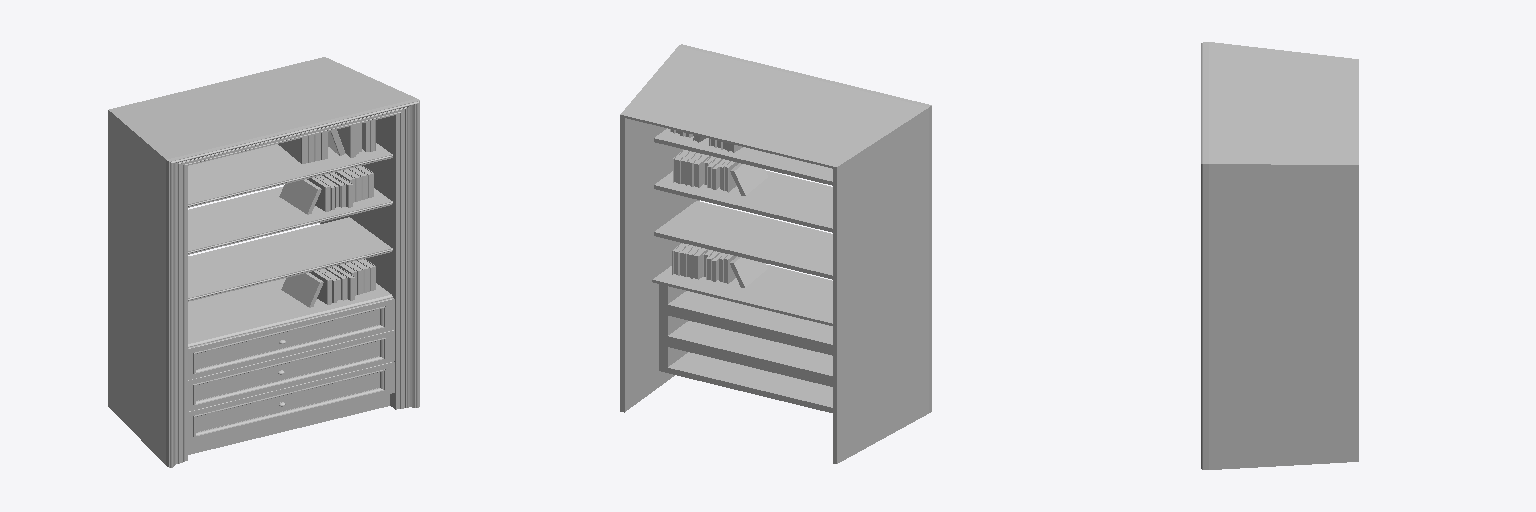
The model's file is cabinet.obj.
The picture shows the model from 3 angles: view 1: azimuth 30°, elevation 25°; view 2: azimuth 150°, elevation 25°; view 3: azimuth 270°, elevation 25°; orthographic projection.
Visible parts, largest first — view 1: Rectangle13, Line45, Rectangle09, Rectangle8, Rectangle1032, Rectangle7; view 2: Rectangle13, Line45, Rectangle8, Rectangle1032; view 3: Rectangle13.
Boxes of the visible parts, <box> form: Rectangle13: <box>108,57,419,467</box>; Line45: <box>188,143,392,347</box>; Rectangle09: <box>193,306,385,436</box>; Rectangle8: <box>279,166,373,214</box>; Rectangle1032: <box>281,259,375,307</box>; Rectangle7: <box>278,120,375,163</box>; Rectangle13: <box>620,44,931,463</box>; Line45: <box>652,128,832,325</box>; Rectangle8: <box>673,150,767,195</box>; Rectangle1032: <box>672,243,767,287</box>; Rectangle13: <box>1201,42,1358,469</box>.
Bounding box in the file's own units: 0.8912 × 1.04 × 0.4858.